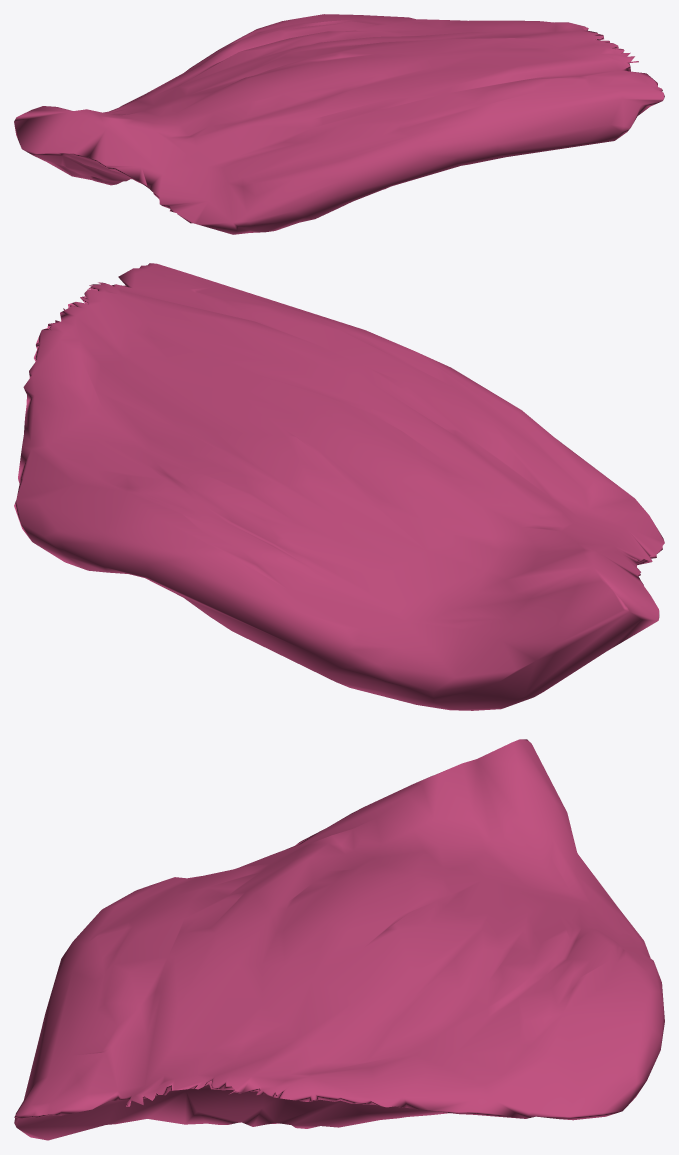
The picture shows the model from 3 angles, top to bottom: view 1: azimuth 30°, elevation 25°; view 2: azimuth 150°, elevation 25°; view 3: azimuth 270°, elevation 25°; orthographic projection. The views are drawn at different scales.
Visible parts, largest first — view 1: 左侧股方肌; view 2: 左侧股方肌; view 3: 左侧股方肌.
Part boxes in pixels (x1=…): 左侧股方肌: x1=14, y1=14, x2=664, y2=234; 左侧股方肌: x1=14, y1=263, x2=664, y2=710; 左侧股方肌: x1=14, y1=739, x2=664, y2=1140.
Size of the model in its own units: 0.1009 by 0.0237 by 0.0674.
